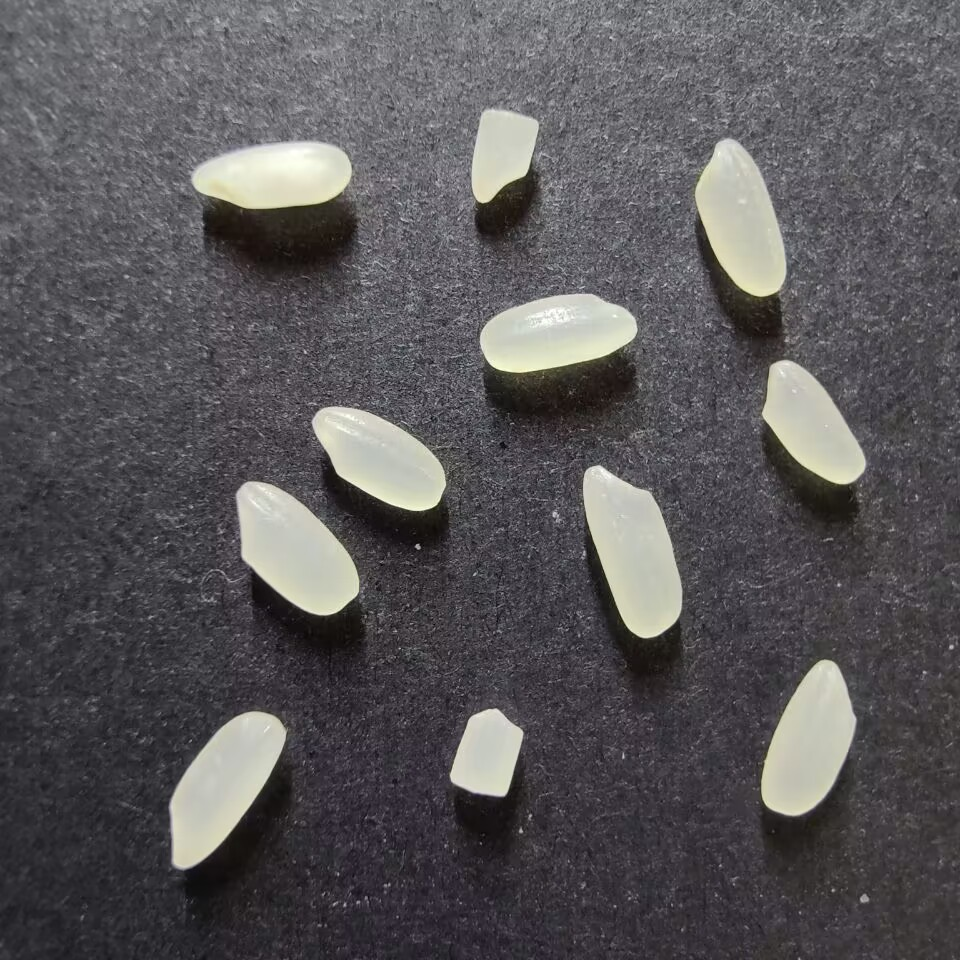broken: (449, 707, 523, 797), (470, 109, 539, 204)
rice: (166, 711, 286, 870), (581, 464, 682, 638), (234, 479, 359, 616), (760, 658, 858, 816), (693, 138, 787, 298), (311, 405, 446, 511), (760, 359, 866, 485), (478, 293, 637, 373), (191, 140, 351, 209)
